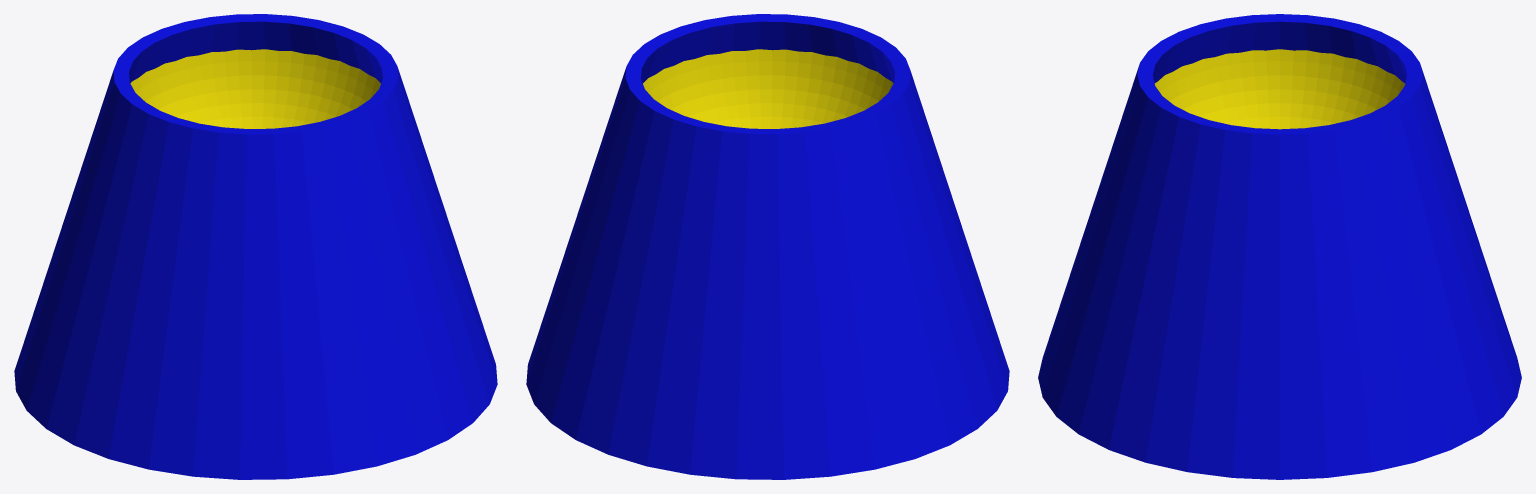
File: Blunted_v1.2.fbx
3 renders of one model, left to right at view 1: azimuth 30°, elevation 25°; view 2: azimuth 150°, elevation 25°; view 3: azimuth 270°, elevation 25°, orthographic.
Parts seen in each view (by area): view 1: Cylinder, Sphere; view 2: Cylinder, Sphere; view 3: Cylinder, Sphere.
Part boxes in pixels (box(x1,y1,x2,y2)): Cylinder: box(14, 14, 497, 479); Sphere: box(130, 49, 380, 128); Cylinder: box(526, 14, 1009, 479); Sphere: box(643, 49, 893, 128); Cylinder: box(1038, 14, 1521, 479); Sphere: box(1154, 49, 1405, 129).
Size of the model in its own units: 84.01 by 58.12 by 84.01.
